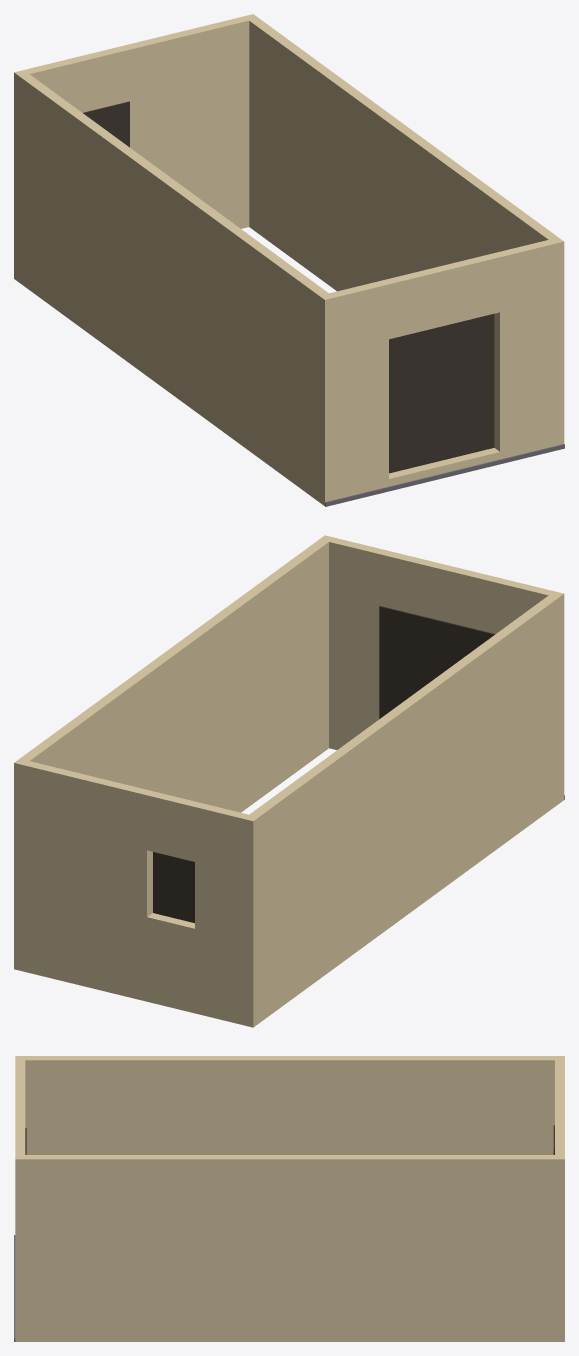
File: SM_Floor_NarrowUpperBalcony_Yellow_364_Back_01.gltf
3 renders of one model, top to bottom at view 1: azimuth 30°, elevation 25°; view 2: azimuth 150°, elevation 25°; view 3: azimuth 270°, elevation 25°, orthographic. The views are drawn at different scales.
Visible parts, largest first — view 1: SM_Floor_NarrowUpperBalcony_Yellow_364_Back_01; view 2: SM_Floor_NarrowUpperBalcony_Yellow_364_Back_01; view 3: SM_Floor_NarrowUpperBalcony_Yellow_364_Back_01.
Boxes of the visible parts, box(x1,y1,x2,y2) form: SM_Floor_NarrowUpperBalcony_Yellow_364_Back_01: box(14, 14, 564, 506); SM_Floor_NarrowUpperBalcony_Yellow_364_Back_01: box(14, 535, 564, 1027); SM_Floor_NarrowUpperBalcony_Yellow_364_Back_01: box(14, 1056, 564, 1341).
Size of the model in its own units: 3.64 by 3 by 8.21.
Materials: 1 (1 with a texture image).
